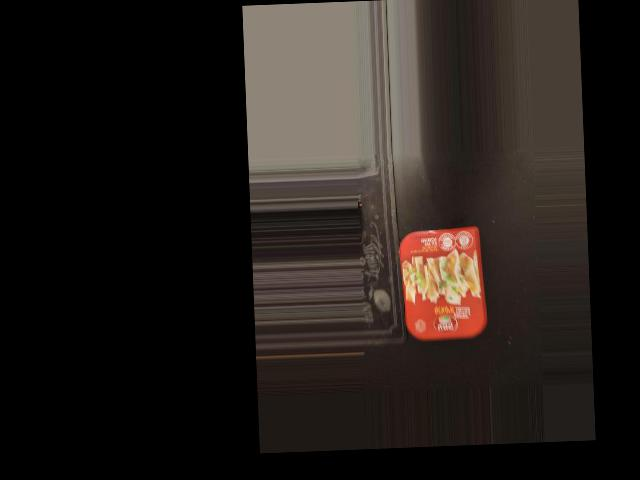cheese: (398, 229, 489, 343)
